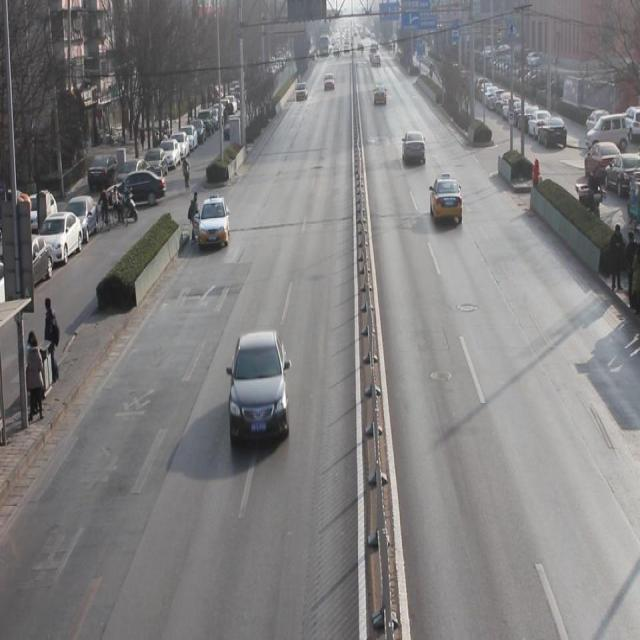car: (228, 326, 292, 450), (194, 193, 232, 253), (428, 176, 466, 228), (401, 130, 428, 170)
